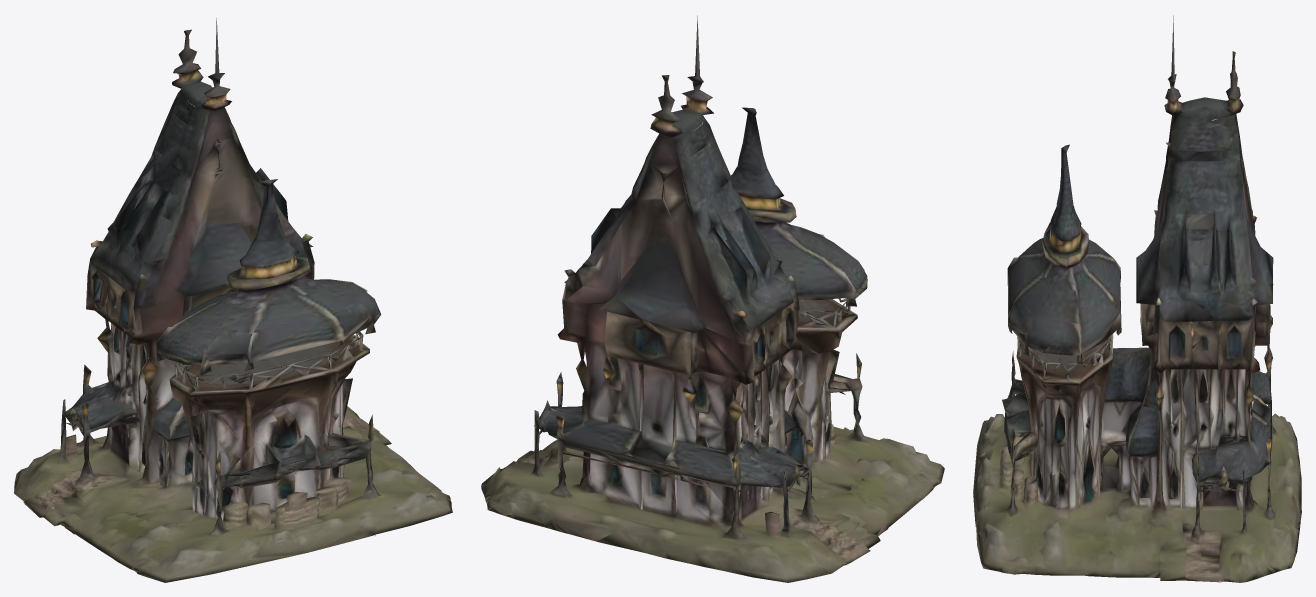
The model's file is manor-lo.glb.
3 views of the same model, side by side, from view 1: azimuth 30°, elevation 25°; view 2: azimuth 150°, elevation 25°; view 3: azimuth 270°, elevation 25° (orthographic). The views are drawn at different scales.
Visible parts, largest first — view 1: manor-lo, manor-lo roof; view 2: manor-lo, manor-lo roof; view 3: manor-lo, manor-lo roof.
Part boxes in pixels (x1=…): manor-lo: x1=14, y1=89, x2=452, y2=582; manor-lo roof: x1=172, y1=18, x2=231, y2=111; manor-lo: x1=481, y1=107, x2=944, y2=582; manor-lo roof: x1=650, y1=15, x2=713, y2=137; manor-lo: x1=973, y1=114, x2=1301, y2=582; manor-lo roof: x1=1164, y1=15, x2=1243, y2=120.
Size of the model in its own units: 19.98 by 26 by 16.
1 material, 1 textured.
